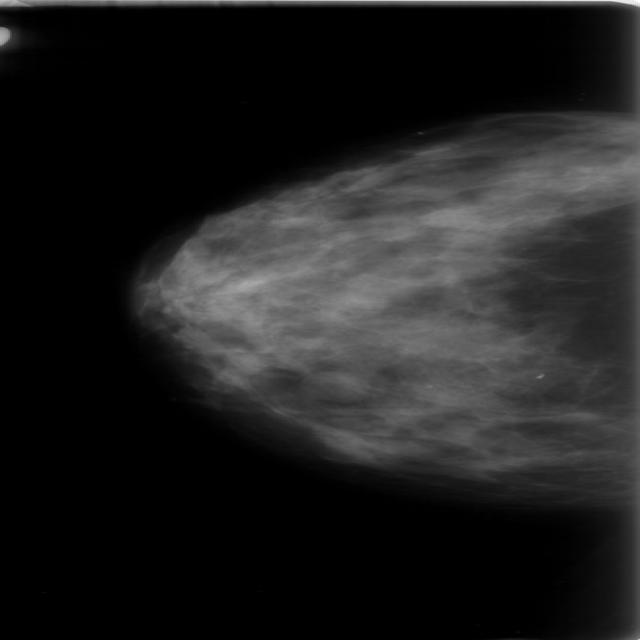tumour: (298, 370, 368, 403)
